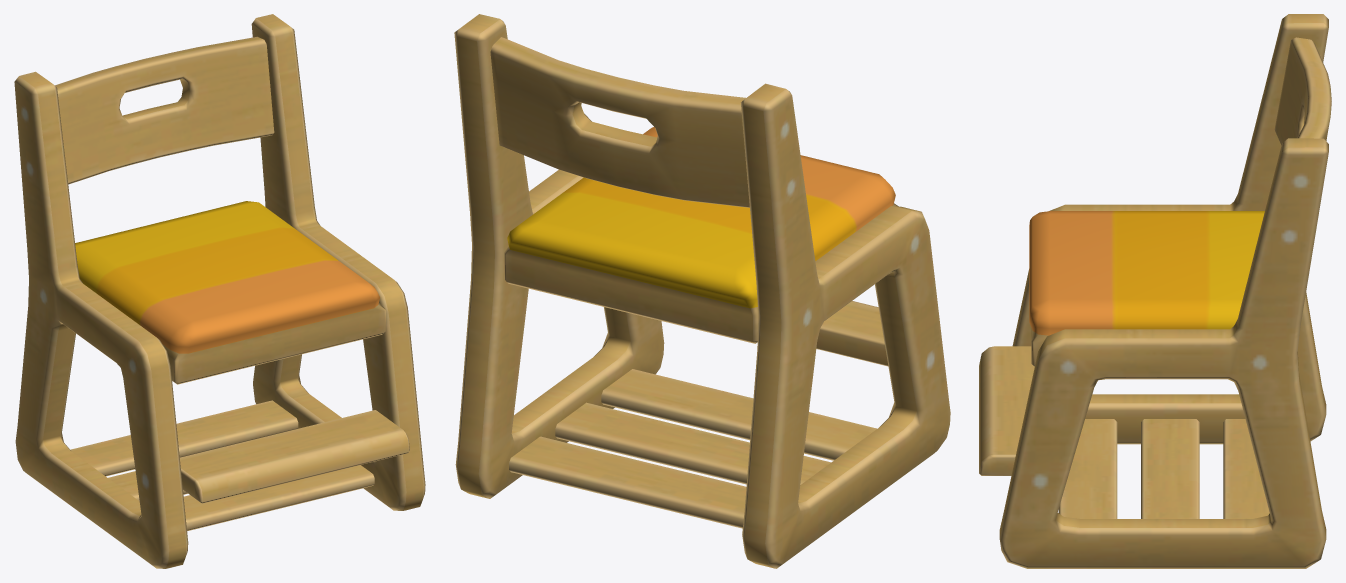
File: study-chair.glb
3 renders of one model, left to right at view 1: azimuth 30°, elevation 25°; view 2: azimuth 150°, elevation 25°; view 3: azimuth 270°, elevation 25°, orthographic. The views are drawn at different scales.
Parts seen in each view (by area): view 1: FtrStudyChair_node1, FtrStudyChair_node2; view 2: FtrStudyChair_node1, FtrStudyChair_node2; view 3: FtrStudyChair_node1, FtrStudyChair_node2.
Boxes of the visible parts, left/top/right/bottom form: FtrStudyChair_node1: left=14, top=14, right=425, bottom=568; FtrStudyChair_node2: left=75, top=201, right=379, bottom=353; FtrStudyChair_node1: left=454, top=14, right=950, bottom=568; FtrStudyChair_node2: left=507, top=127, right=895, bottom=308; FtrStudyChair_node1: left=979, top=14, right=1331, bottom=568; FtrStudyChair_node2: left=1029, top=211, right=1264, bottom=335.
Size of the model in its own units: 6.33 by 8.99 by 6.82.
Materials: 2 (2 with a texture image).
